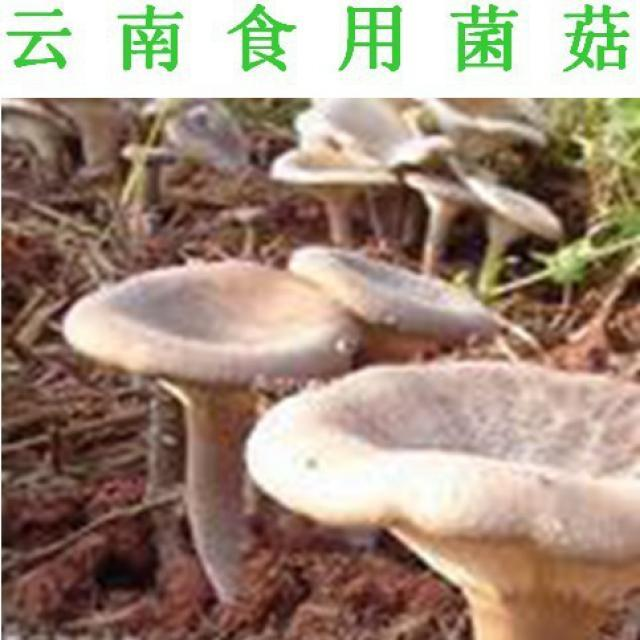Clitocybe maxima: (240, 359, 640, 630), (64, 260, 354, 597), (270, 97, 563, 261), (293, 243, 503, 359)
